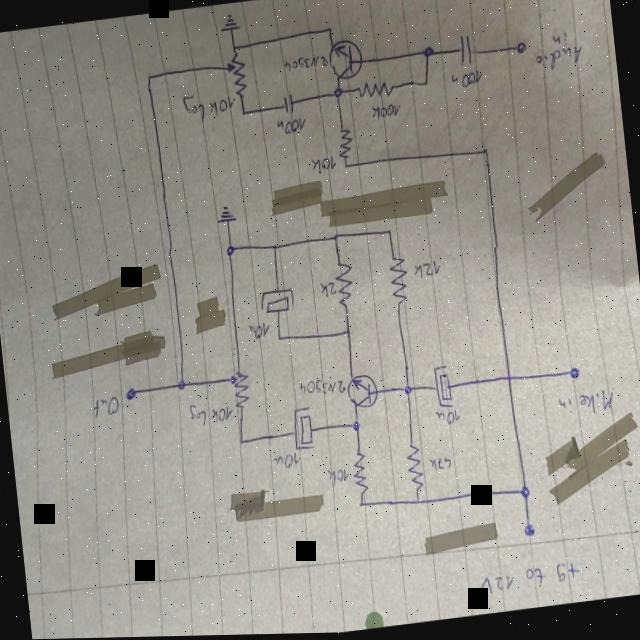capacitor: (290, 406, 317, 454), (431, 362, 456, 413), (258, 286, 298, 317), (454, 36, 478, 70), (280, 94, 296, 117)
crossover: (505, 375, 514, 386)
ground: (218, 11, 242, 36), (216, 205, 238, 226)
junction: (518, 486, 532, 503), (332, 87, 346, 103), (422, 46, 436, 61), (402, 384, 416, 399), (225, 245, 238, 260), (350, 421, 362, 435), (176, 379, 188, 392), (144, 72, 155, 85), (331, 233, 342, 246), (357, 501, 367, 512), (270, 243, 280, 254), (414, 498, 424, 508), (237, 438, 246, 449), (344, 328, 353, 339), (482, 148, 491, 159), (326, 27, 335, 36), (276, 335, 284, 345), (342, 164, 350, 174), (423, 81, 431, 90), (240, 110, 247, 119), (386, 229, 392, 238), (232, 45, 238, 54)
resistor: (386, 253, 412, 309), (332, 259, 358, 312), (226, 367, 253, 413), (404, 442, 427, 495), (225, 53, 250, 99), (356, 82, 396, 104), (351, 452, 371, 495), (336, 128, 354, 162)
terminal: (124, 387, 140, 402), (514, 42, 528, 59), (524, 524, 538, 540), (568, 368, 582, 384)
text: (470, 563, 582, 599), (530, 32, 586, 76), (180, 89, 238, 128), (555, 388, 617, 421), (188, 401, 236, 430), (298, 376, 348, 403), (282, 54, 330, 76), (449, 71, 486, 93), (275, 117, 310, 139), (91, 395, 121, 420), (412, 261, 443, 283), (369, 103, 402, 123), (271, 452, 303, 472), (308, 156, 338, 177), (434, 409, 462, 430), (326, 467, 350, 490), (248, 322, 272, 343), (428, 457, 453, 474), (318, 281, 338, 302)
transistor: (328, 39, 366, 85), (344, 374, 381, 414)
